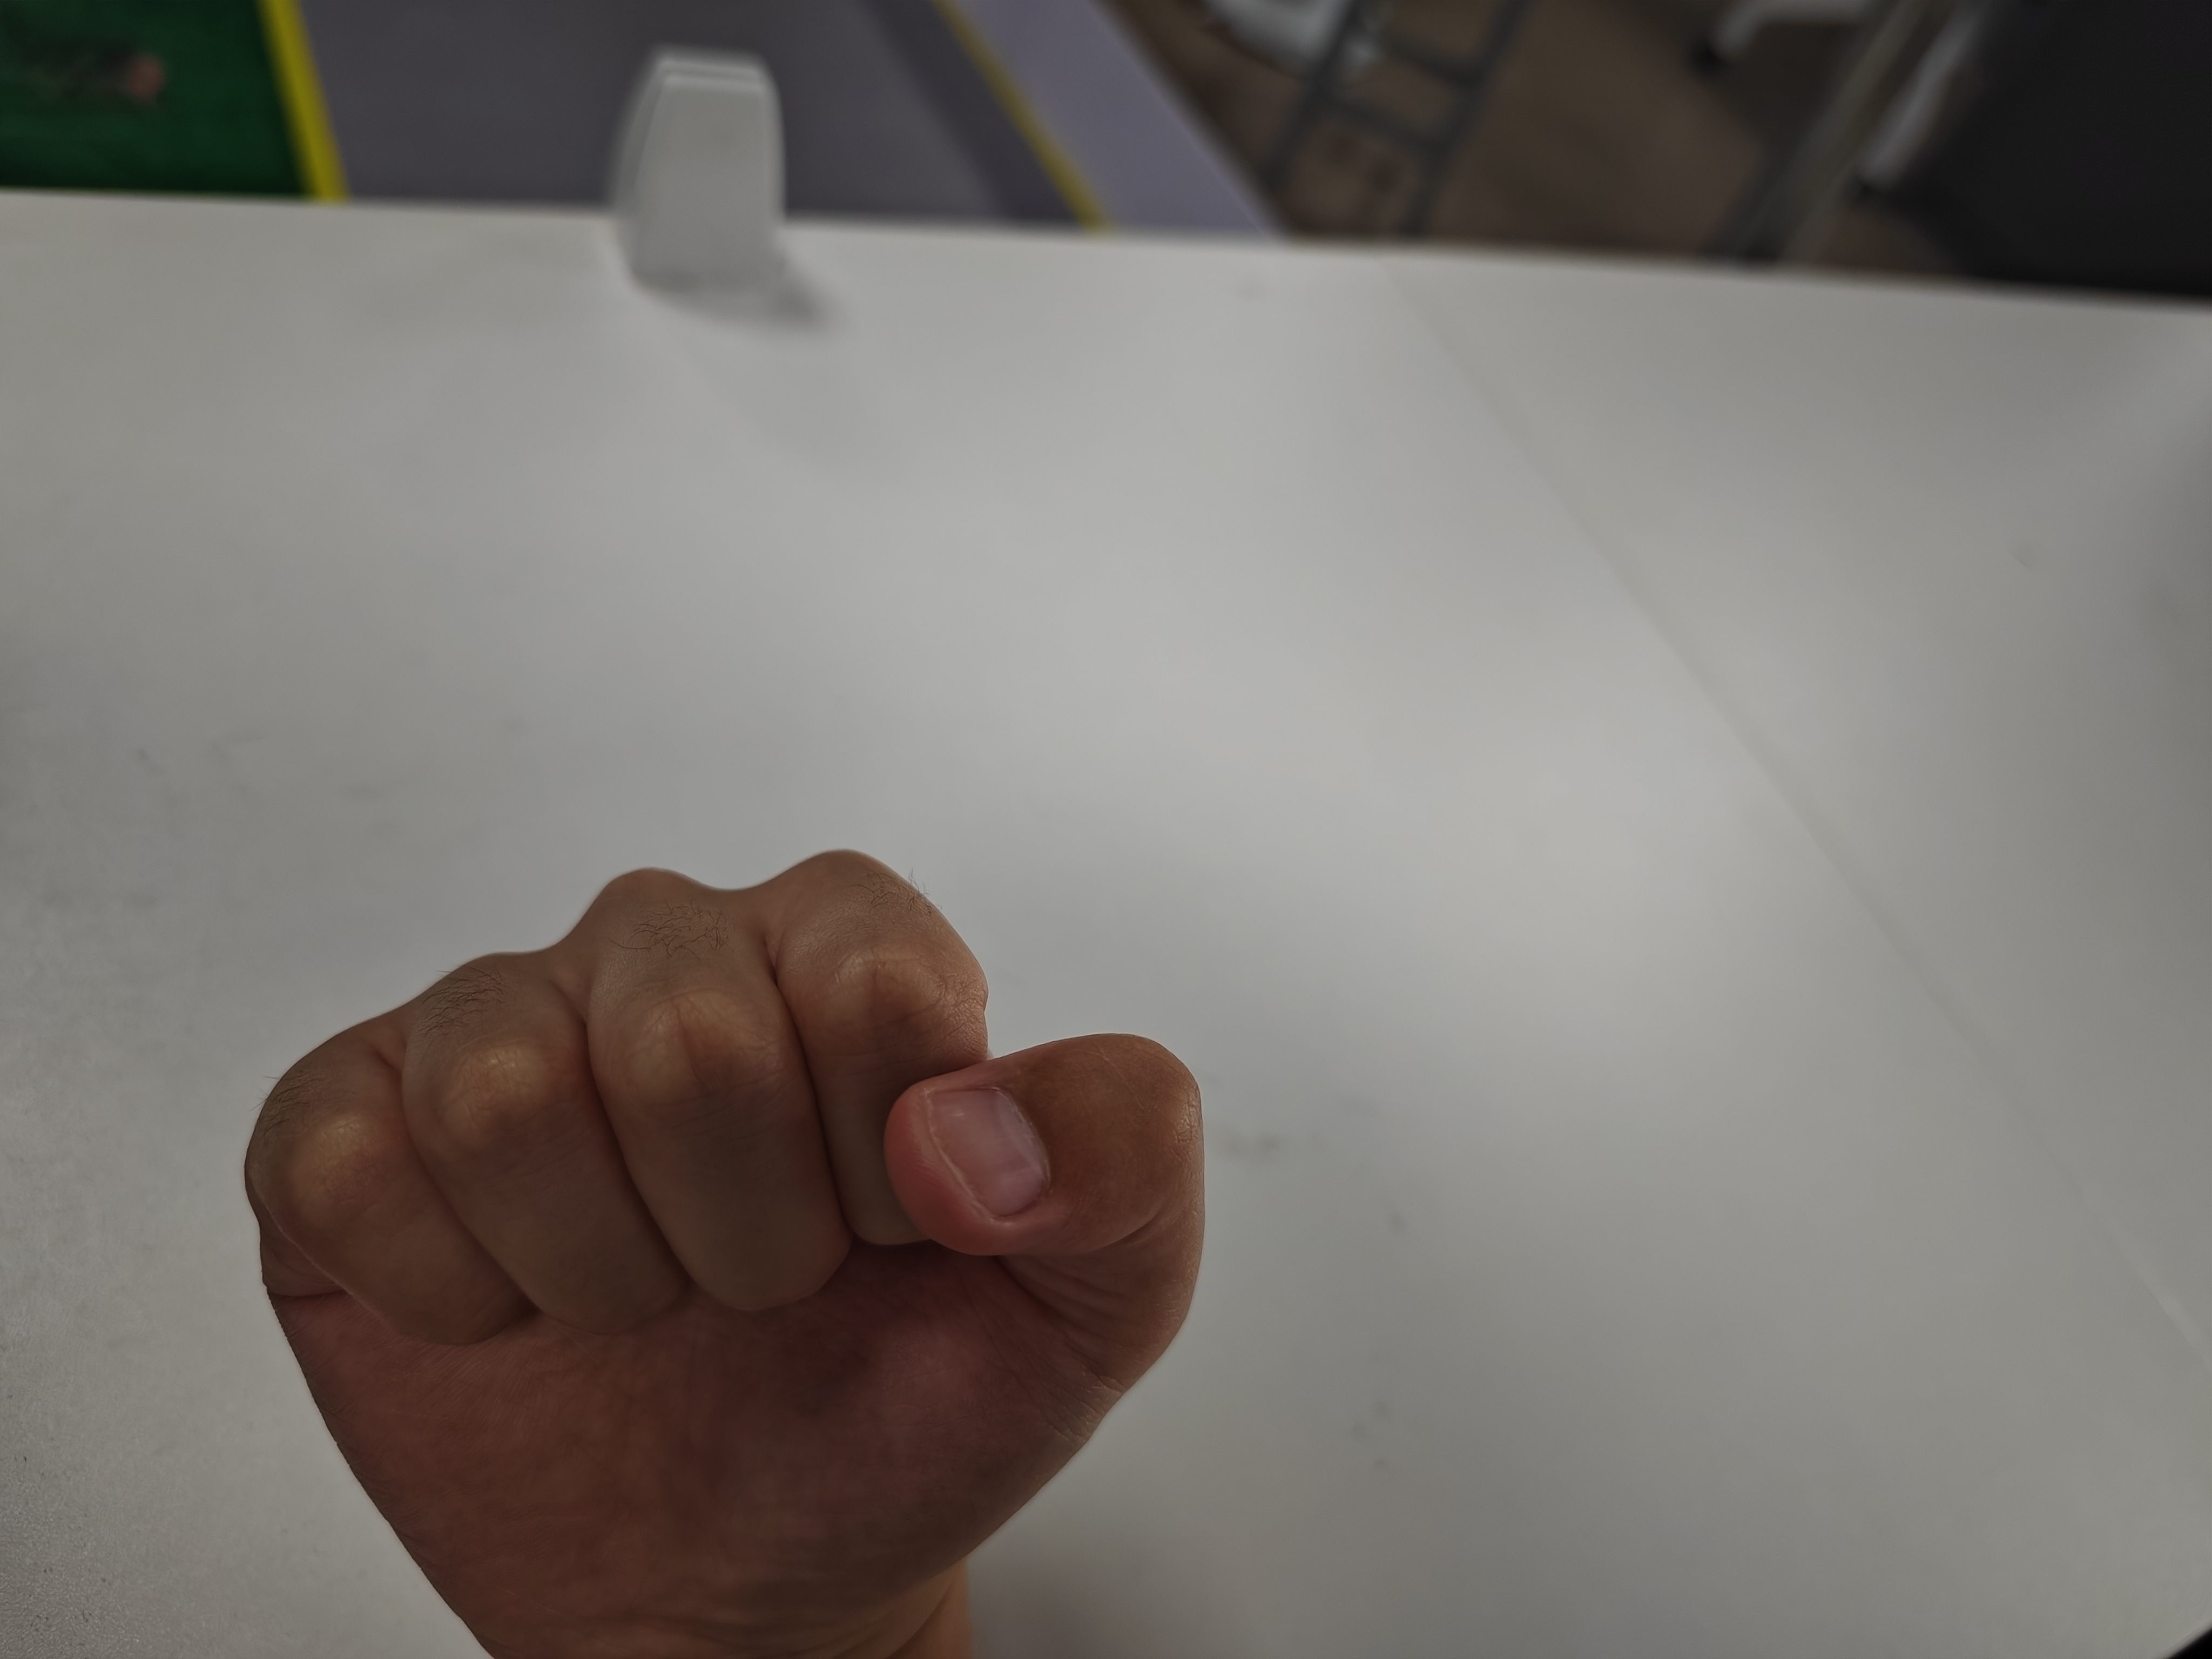mb: (212, 843, 1211, 1595)
